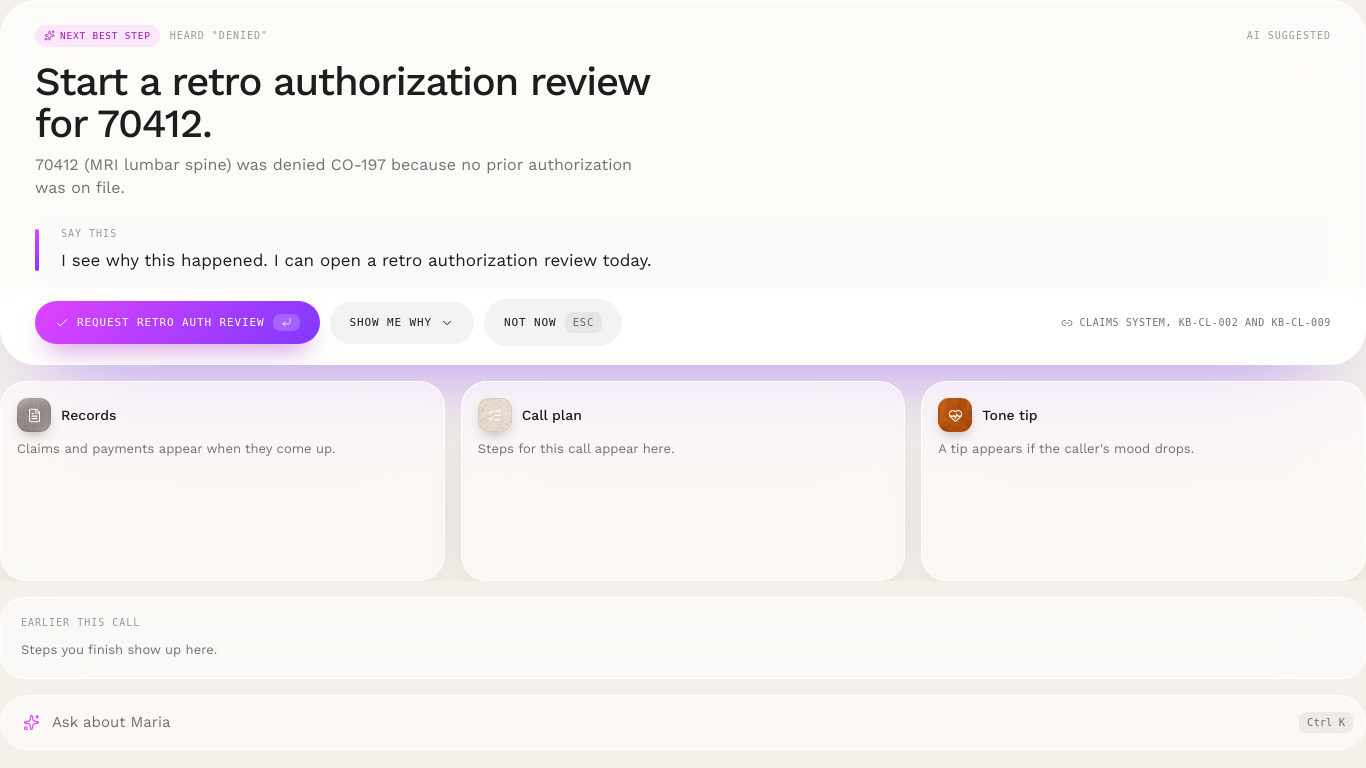
it: AssistColumn Ask bar (P4-6, AP-8) › Cmd+K or Ctrl+K focuses the Ask field; Enter sends the question and clears it
This screenshot has width=1366, height=768.
Later steps or results of the test are not shown.
Expected: the field named "Ask" is enabled, [52, 704, 1287, 742]
Press k
Press K
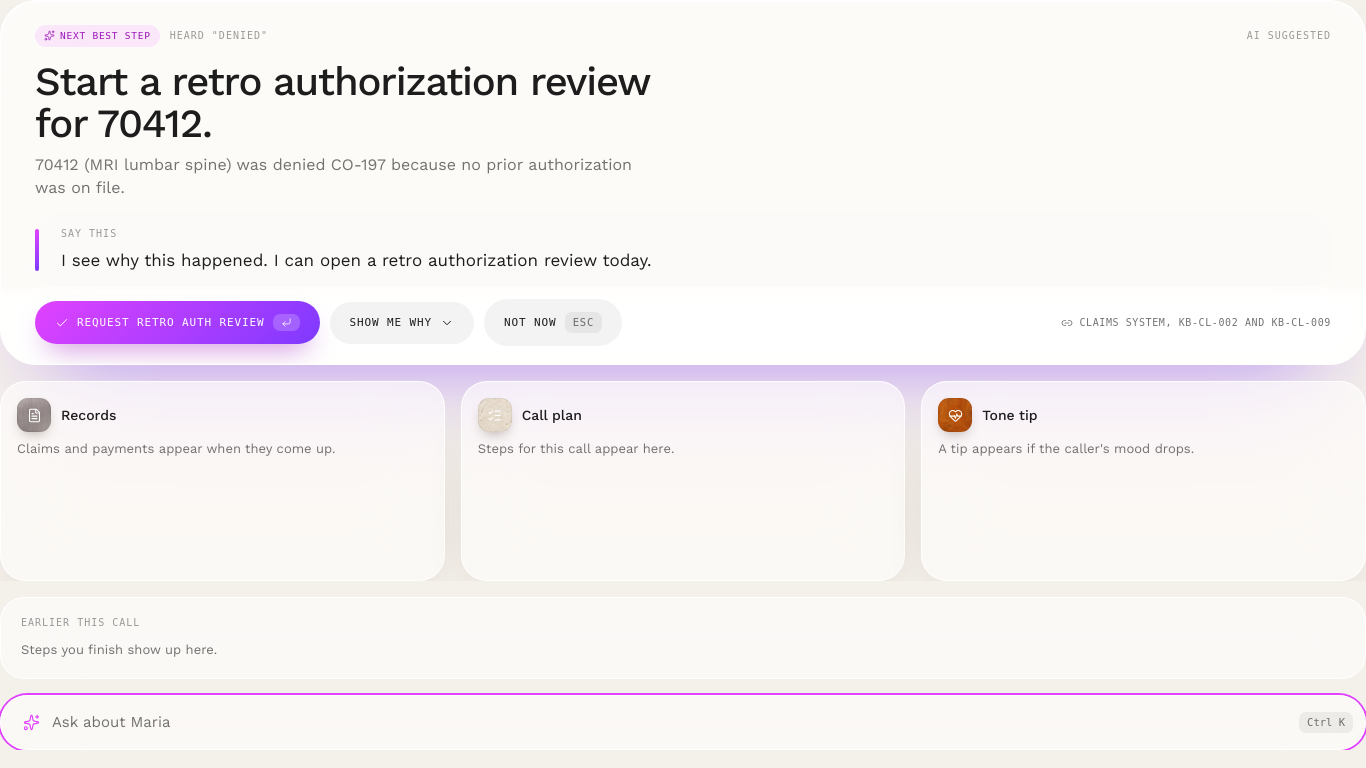
In the field named "Ask": (670, 723) [52, 704, 1287, 742], type "Show the last 3 claims"
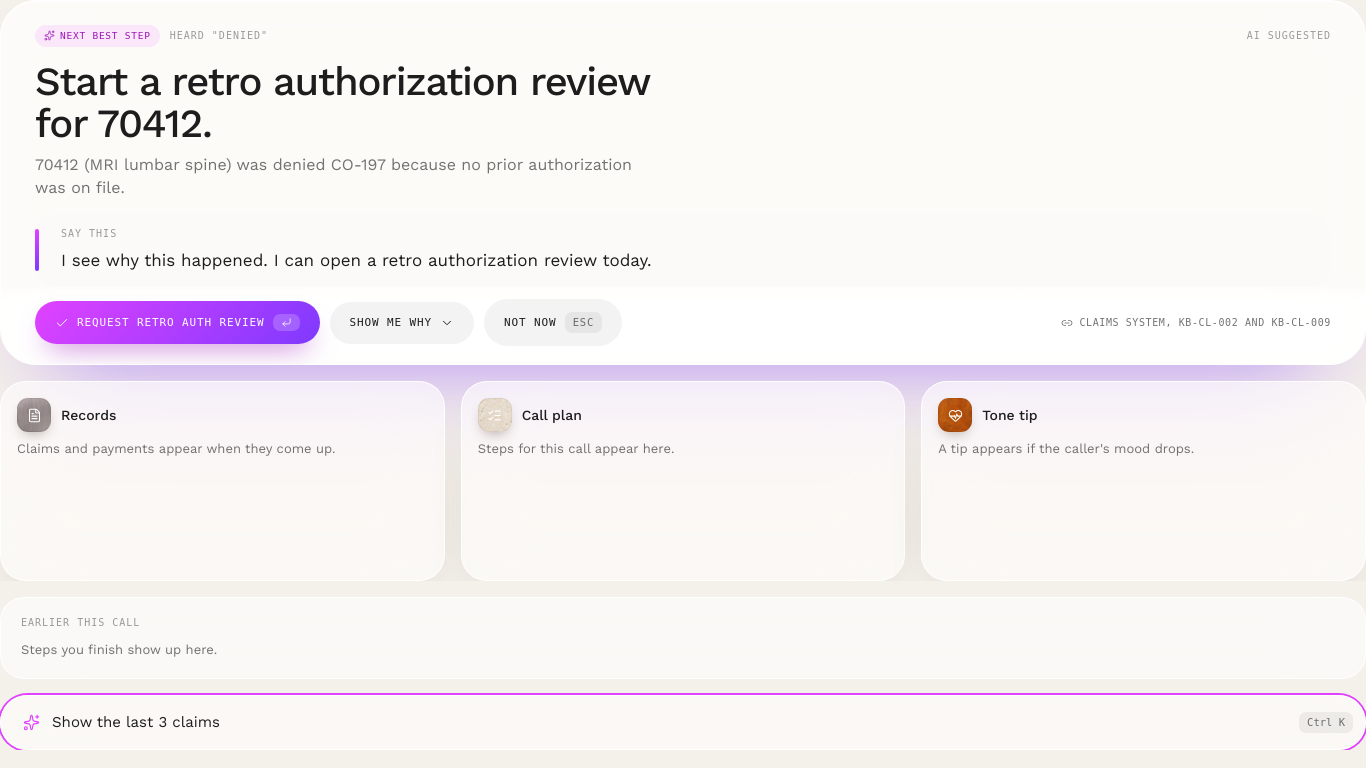
Press Enter in the field named "Ask", box [52, 704, 1287, 742]
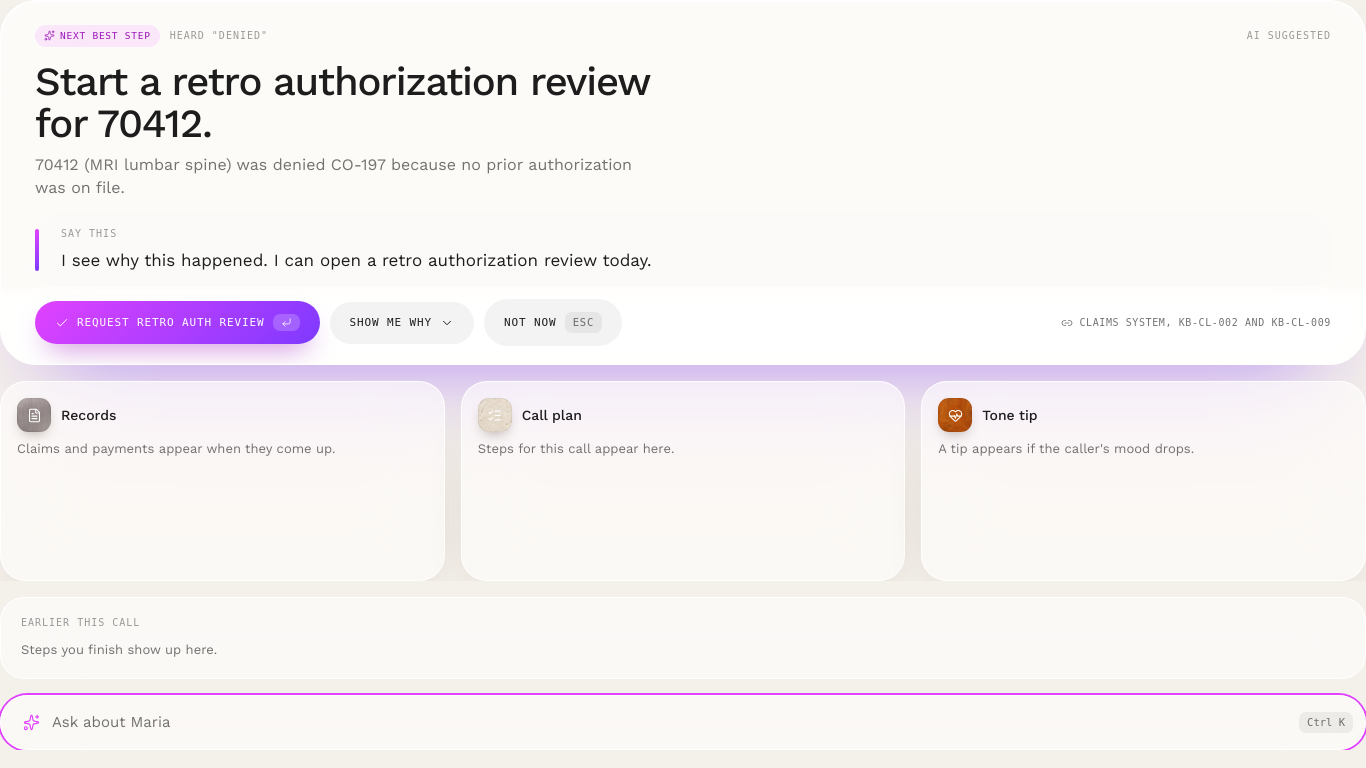
Result: the field named "Ask" is empty at [52, 704, 1287, 742]
